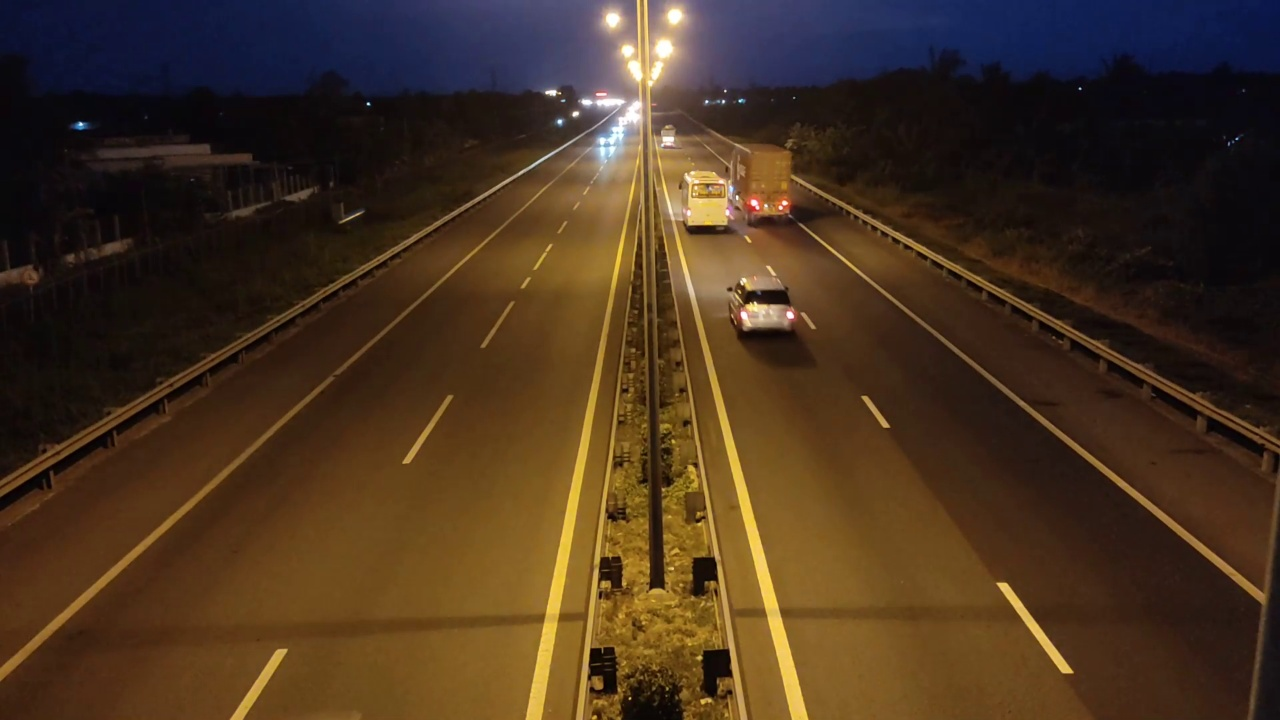bus: (679, 170, 729, 233)
car: (726, 271, 803, 337)
truck: (729, 139, 793, 226)
